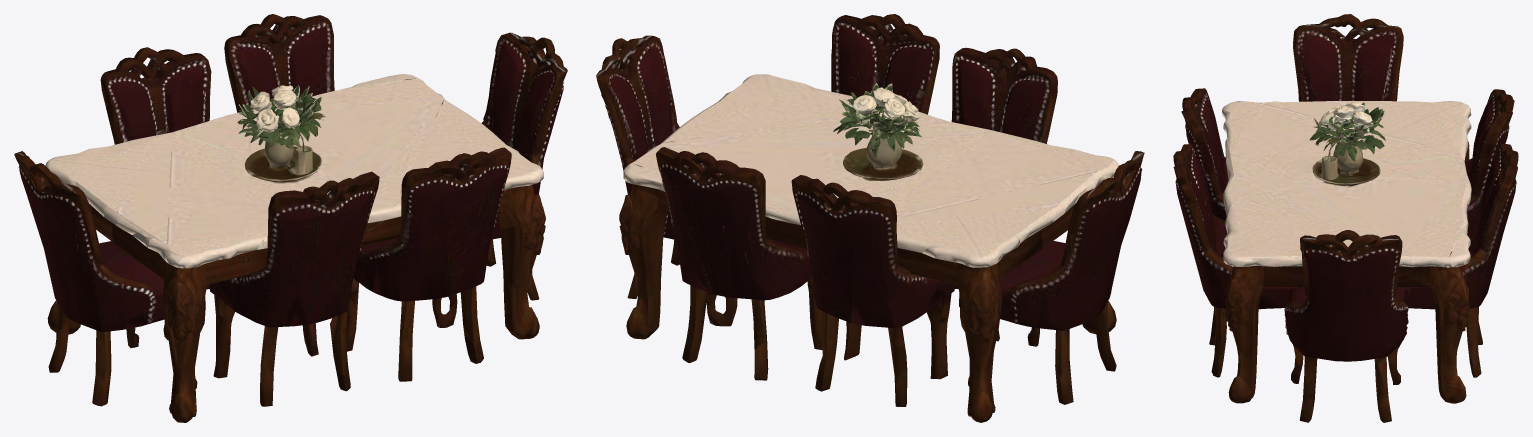
The model's file is luxury_marble_dining_table_leather_chairs.glb.
3 views of the same model, side by side, from view 1: azimuth 30°, elevation 25°; view 2: azimuth 150°, elevation 25°; view 3: azimuth 270°, elevation 25° (orthographic). The views are drawn at different scales.
Parts seen in each view (by area): view 1: mesh_node; view 2: mesh_node; view 3: mesh_node.
Boxes of the visible parts, x1,y1,x2,y2 form: mesh_node: (14, 14, 567, 422); mesh_node: (596, 14, 1144, 422); mesh_node: (1173, 14, 1518, 422).
Bounding box in the file's own units: 2.05 × 0.9352 × 1.35.
Materials: 1 (1 with a texture image).
